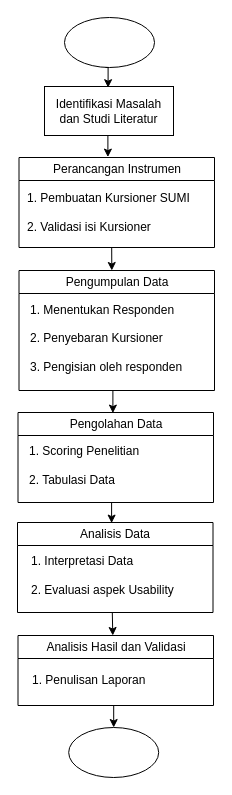
Some shapes in this 232 by 795 pixel diagram are drawn without their labels. The centre of each missing label's shape, as x and y in pixels:
"Mulai" goes at point (109, 42).
"Selesai" goes at point (113, 752).
